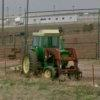Tractor: (25, 24, 83, 82)
